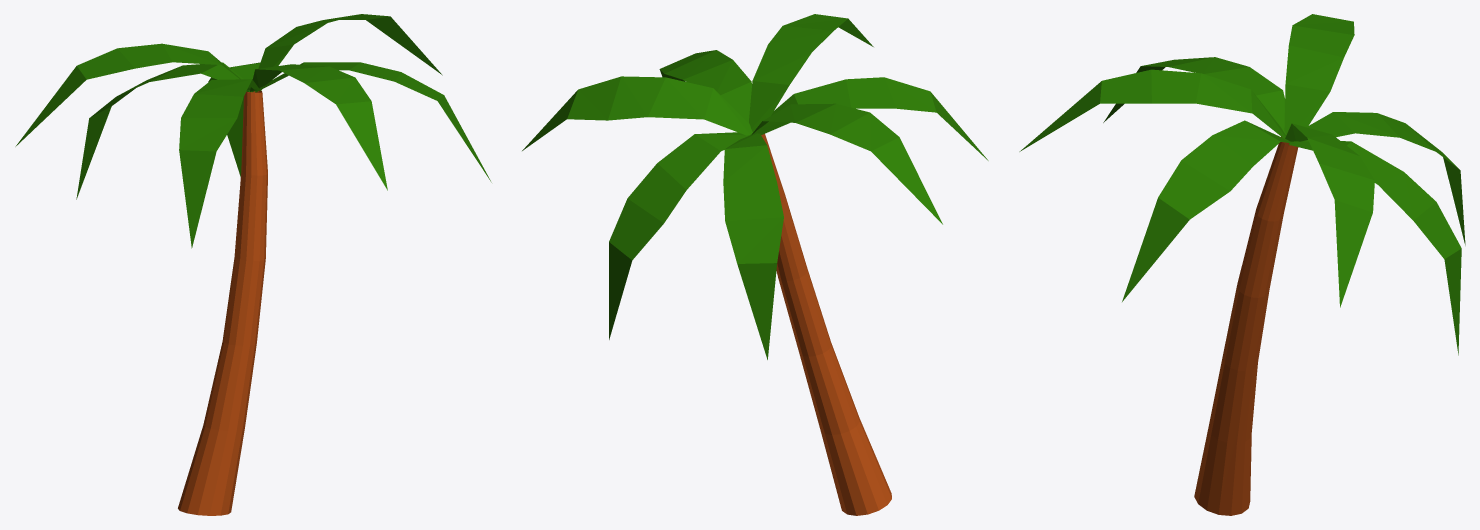
The model's file is palm_tree.obj.
3 renders of one model, left to right at view 1: azimuth 30°, elevation 25°; view 2: azimuth 150°, elevation 25°; view 3: azimuth 270°, elevation 25°, orthographic. The views are drawn at different scales.
Parts seen in each view (by area): view 1: Palm_15_4_Mesh.225; view 2: Palm_15_4_Mesh.225; view 3: Palm_15_4_Mesh.225.
Part boxes in pixels (<box>): Palm_15_4_Mesh.225: <box>15,14,491,515</box>; Palm_15_4_Mesh.225: <box>522,14,988,515</box>; Palm_15_4_Mesh.225: <box>1019,14,1465,515</box>.
Size of the model in its own units: 15.76 by 15.53 by 13.38.
